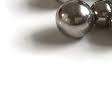ironball: (55, 1, 101, 38), (89, 0, 111, 27)
